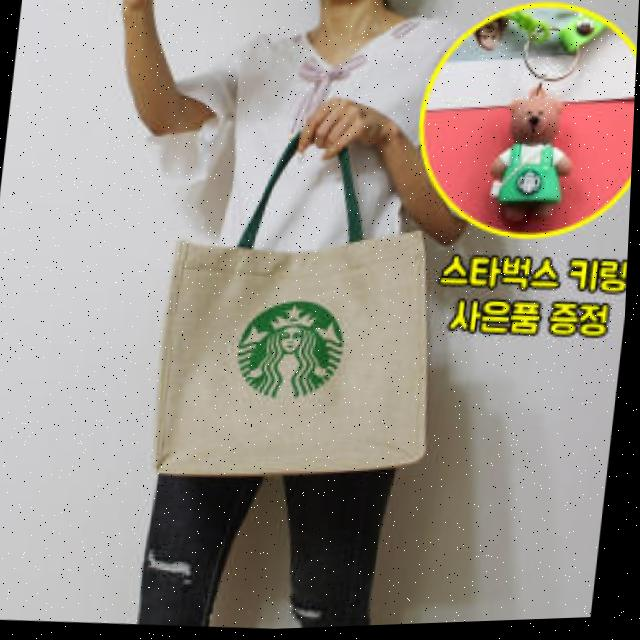ecobag: (144, 93, 481, 514)
